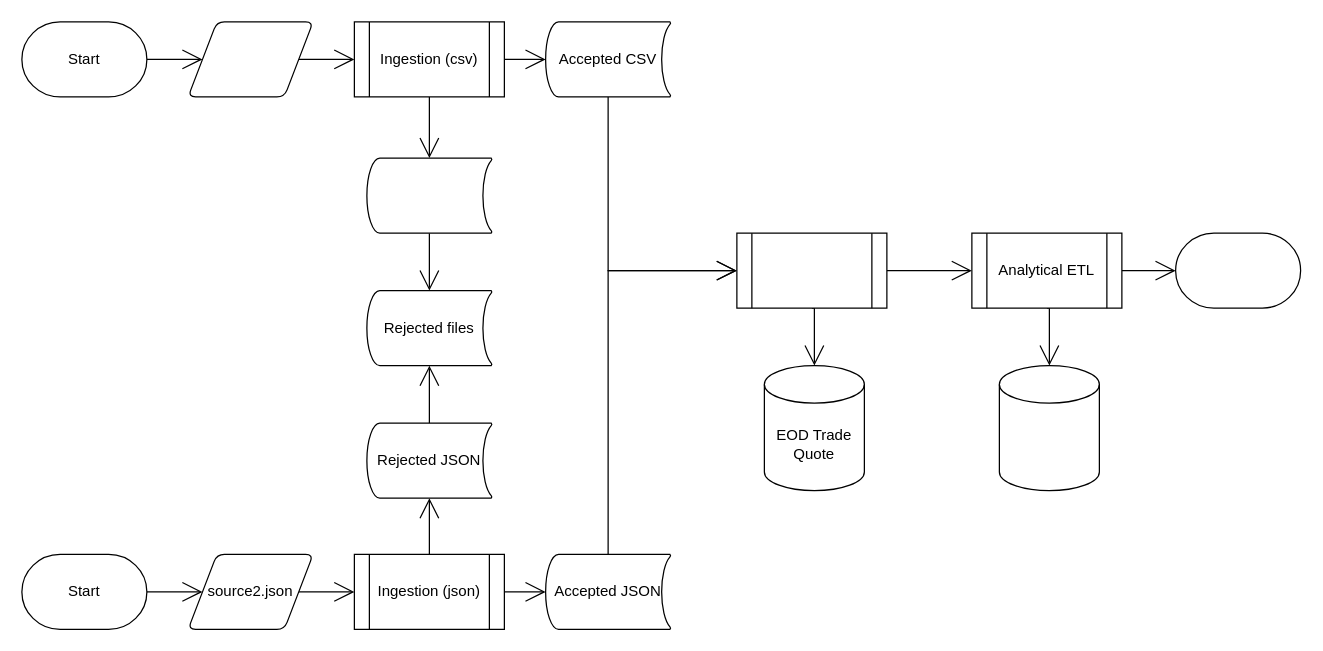
Some shapes in this 1323 by 651 pixel diagram are drawn without their labels. The shapes that lost their labels are listed below. From the top down, each one's centre as x and y in pixels, then its label:
At (x=250, y=59): "source1.csv".
At (x=429, y=195): "Rejected CSV".
At (x=811, y=270): "EOD Load (Accept)".
At (x=1237, y=270): "End".
At (x=1048, y=427): "quote-trade-analytical".
